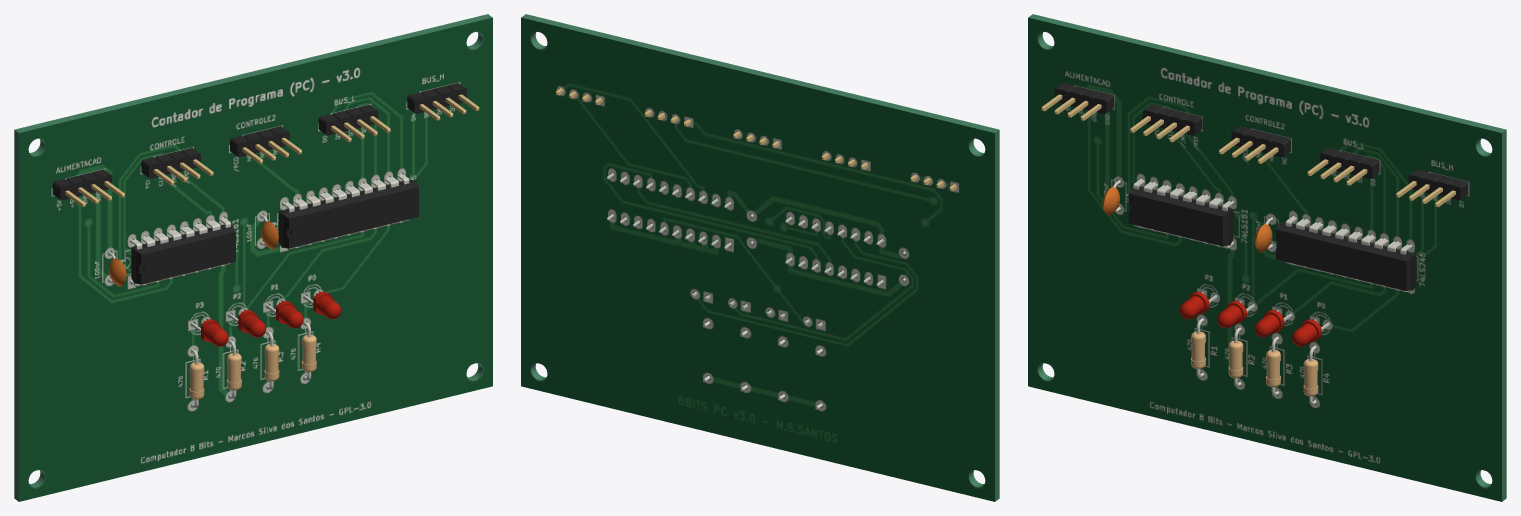
Rendered from pc-contador-programa.glb.
3 views of the same model, side by side, from view 1: azimuth 30°, elevation 25°; view 2: azimuth 150°, elevation 25°; view 3: azimuth 330°, elevation 25° (orthographic).
Visible parts, largest first — view 1: superficie_topo, =>[0:1:1:11]_24209c, =>[0:1:1:14], =>[0:1:1:13]_4ac857, =>[0:1:1:11]_f90267, =>[0:1:1:5]_2_f66762, =>[0:1:1:5]_1_d7cf65, =>[0:1:1:5]_4_c0e09f, =>[0:1:1:5]_6d29fe, =>[0:1:1:5]_3_0c9972, =>[0:1:1:13]_2d36eb, =>[0:1:1:5]_3 (+10 smaller); view 2: superficie_fundo, =>[0:1:1:14], =>[0:1:1:11]_f90267; view 3: superficie_topo, =>[0:1:1:11]_24209c, =>[0:1:1:14], =>[0:1:1:13]_4ac857, =>[0:1:1:11]_f90267, =>[0:1:1:5]_3_0c9972, =>[0:1:1:5]_6d29fe, =>[0:1:1:5]_1_d7cf65, =>[0:1:1:5]_2_f66762, =>[0:1:1:5]_4_c0e09f, =>[0:1:1:13]_2d36eb, =>[0:1:1:3]_1_d72ae4 (+10 smaller).
Part boxes in pixels (x1,y1,x2,y2): superficie_topo: (19,17,492,501); =>[0:1:1:11]_24209c: (278,179,418,248); =>[0:1:1:14]: (14,14,492,501); =>[0:1:1:13]_4ac857: (131,224,235,284); =>[0:1:1:11]_f90267: (282,173,409,249); =>[0:1:1:5]_2_f66762: (52,169,112,200); =>[0:1:1:5]_1_d7cf65: (230,126,289,157); =>[0:1:1:5]_4_c0e09f: (318,104,378,135); =>[0:1:1:5]_6d29fe: (141,148,200,178); =>[0:1:1:5]_3_0c9972: (407,83,466,113); =>[0:1:1:13]_2d36eb: (130,217,230,286); =>[0:1:1:5]_3: (419,94,479,120); superficie_fundo: (521,17,994,501); =>[0:1:1:14]: (521,14,999,501); =>[0:1:1:11]_f90267: (607,173,731,248); superficie_topo: (1028,17,1501,501); =>[0:1:1:11]_24209c: (1276,222,1416,290); =>[0:1:1:14]: (1028,14,1506,501); =>[0:1:1:13]_4ac857: (1128,186,1233,246); =>[0:1:1:11]_f90267: (1285,215,1412,291); =>[0:1:1:5]_3_0c9972: (1408,169,1468,200); =>[0:1:1:5]_6d29fe: (1142,104,1202,135); =>[0:1:1:5]_1_d7cf65: (1231,126,1290,157); =>[0:1:1:5]_2_f66762: (1054,83,1113,113); =>[0:1:1:5]_4_c0e09f: (1320,148,1379,178); =>[0:1:1:13]_2d36eb: (1133,178,1234,248); =>[0:1:1:3]_1_d72ae4: (1254,310,1284,337).
Size of the model in its own units: 0.0922 by 0.0686 by 0.0118.
8 materials, 2 textured.
